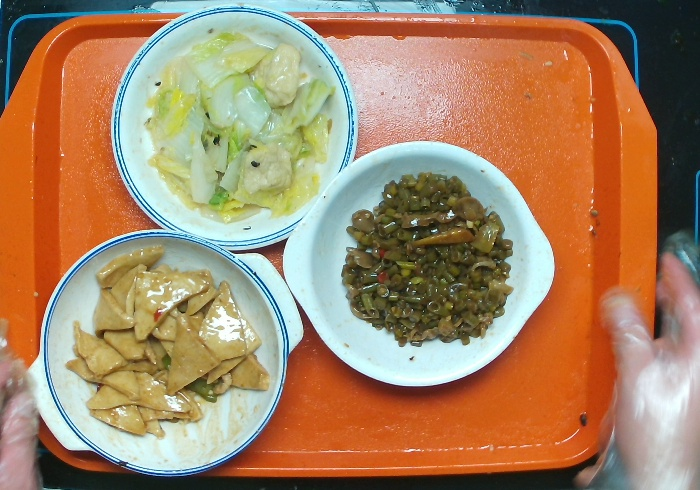HZYJPL-Dai_Er_Bai_Yuan_Wan: (279, 138, 557, 390)
HZYJPL-Lan_Bian_Dai_Er_Wan: (25, 226, 306, 477)
HZYJPL-Lan_Bian_Yuan_Die: (107, 2, 360, 252)
